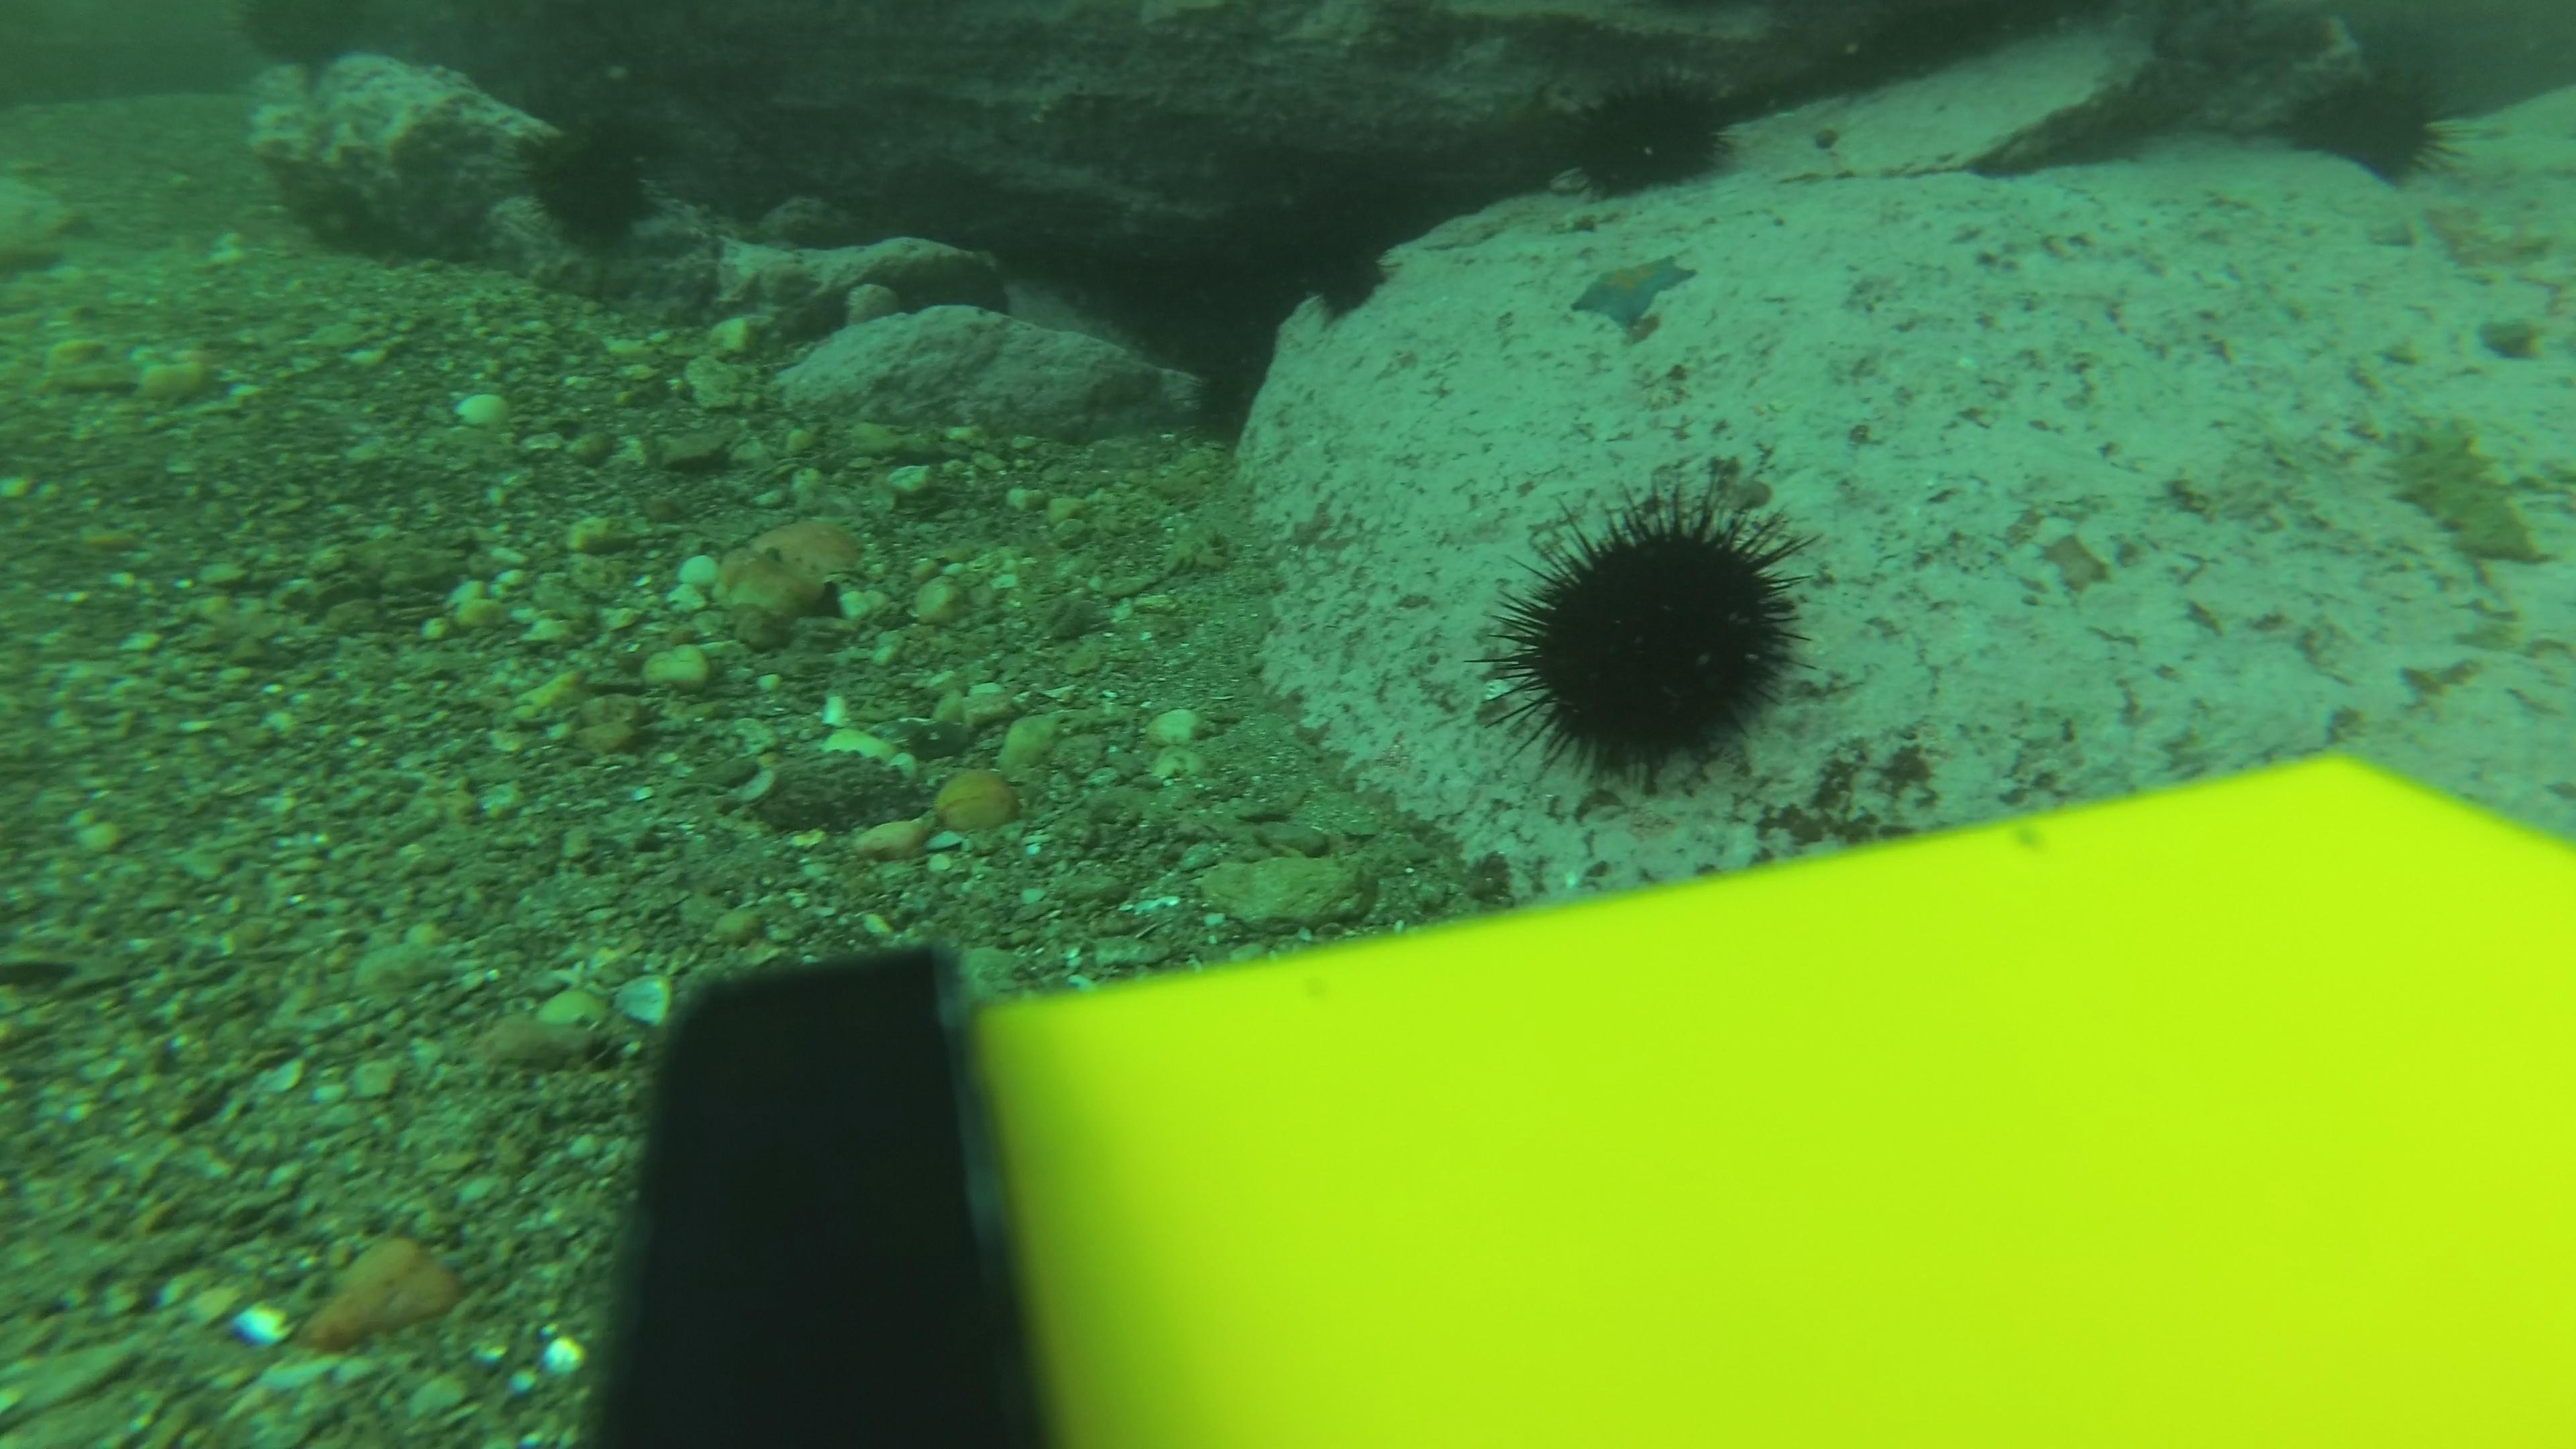echinus: (1483, 479, 1821, 789), (2275, 55, 2466, 189), (1555, 67, 1743, 203), (517, 110, 669, 249), (1297, 225, 1401, 326)
holothurian: (2380, 403, 2551, 571)
starfish: (1562, 246, 1700, 334)
